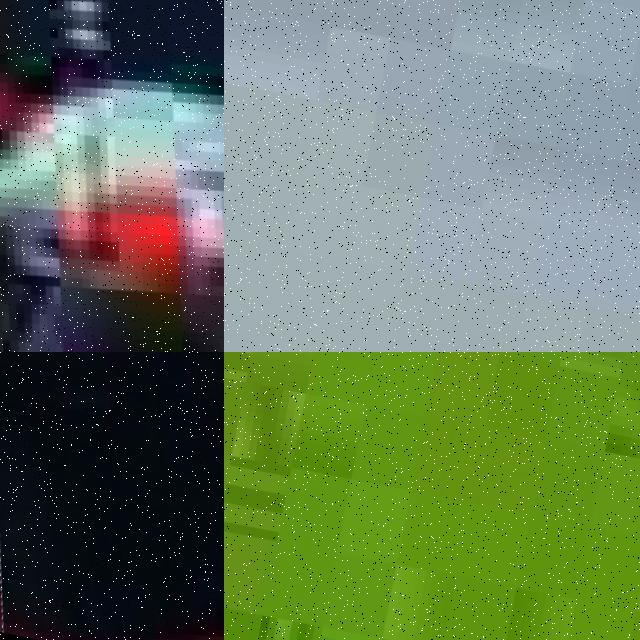drone: (0, 0, 224, 352), (0, 352, 224, 640)
